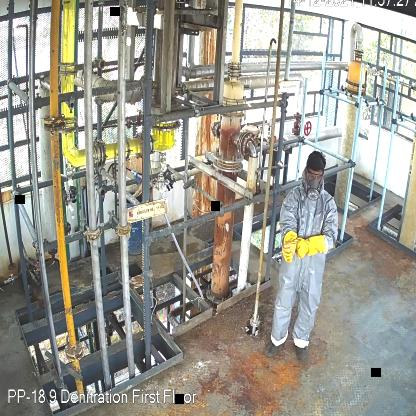goggles: (305, 167, 325, 180)
mask: (305, 178, 322, 201)
